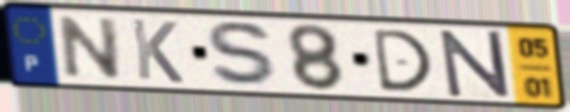8: (285, 21, 348, 95)
D: (369, 27, 436, 94)
K: (128, 16, 187, 86)
N: (436, 28, 514, 100), (58, 14, 125, 82)
S: (203, 18, 284, 91)
